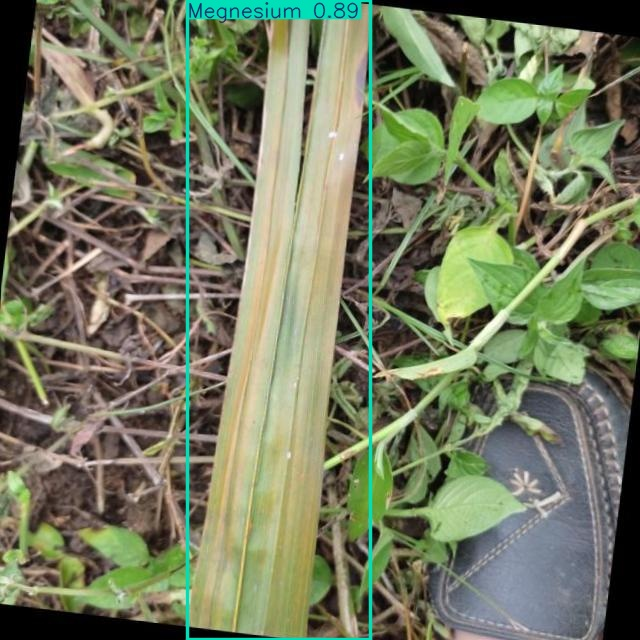Megnesium: (188, 0, 371, 640)
